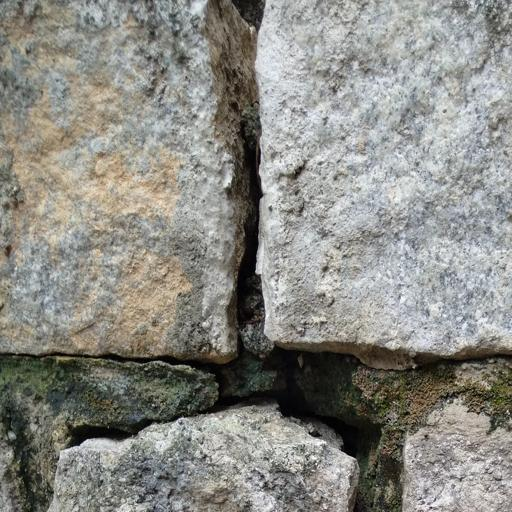major_crack: (167, 0, 405, 485), (4, 327, 216, 512)
